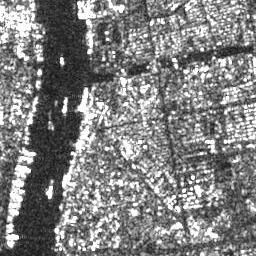ship: (18, 155, 37, 164), (84, 29, 94, 46), (13, 165, 34, 173), (10, 178, 26, 187), (4, 231, 20, 240), (61, 96, 69, 114), (9, 192, 23, 202), (5, 208, 21, 216), (46, 184, 54, 199), (20, 149, 40, 155), (59, 56, 66, 66), (35, 80, 42, 88)
